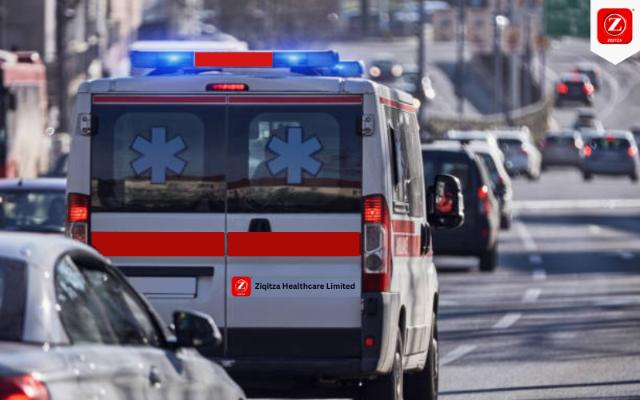ambulance: (53, 26, 447, 400)
